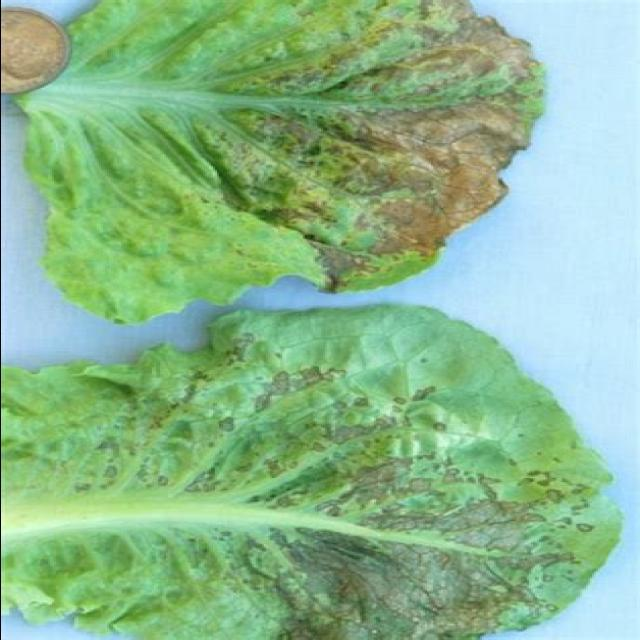Lettuce: (0, 301, 624, 640), (18, 0, 542, 311)
